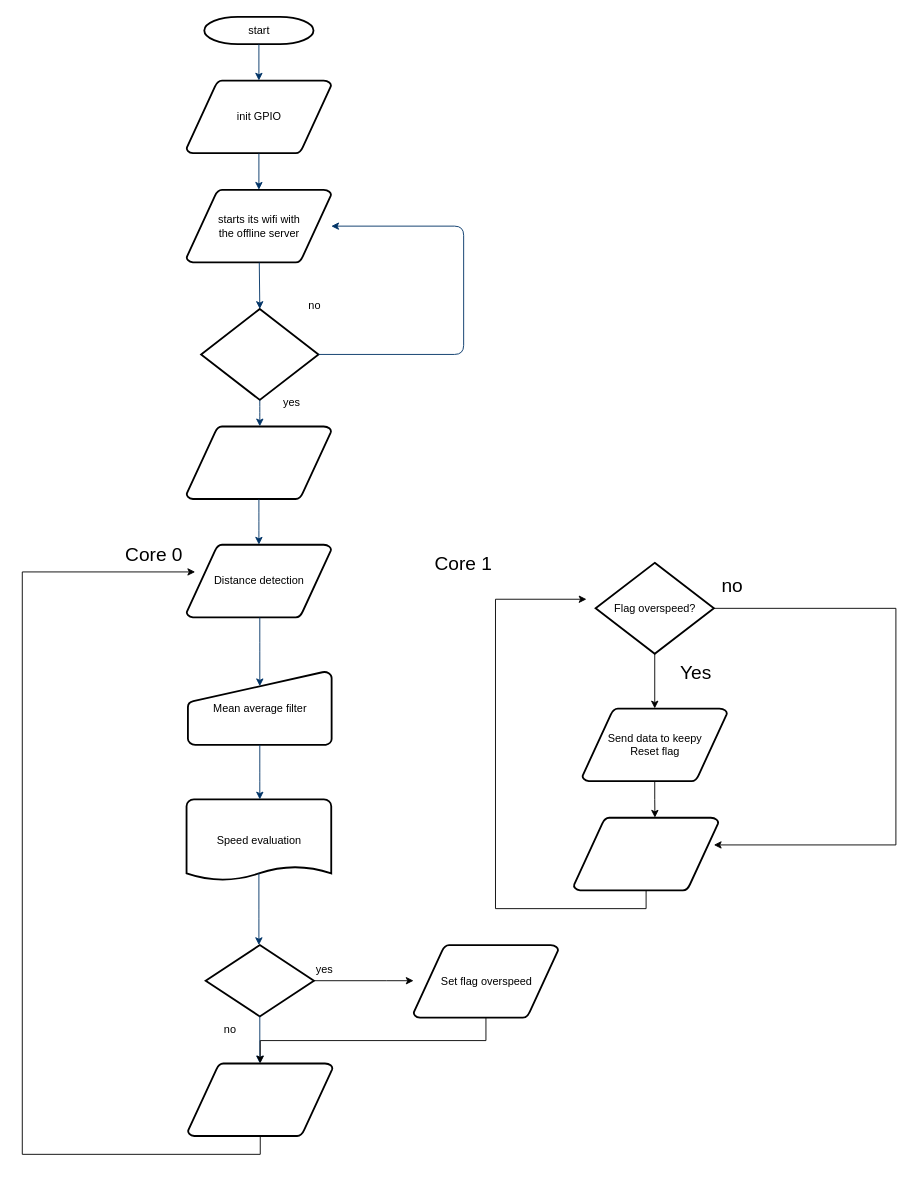
The diagram is 919 pixels wide and 1178 high, and some of its shapes have lost their labels. The centre of each missing label's shape, as x and y in pixels:
"activation command received?" belongs at point (259, 354).
"Connect to wifi available" belongs at point (258, 462).
"Overspeed detected?" belongs at point (259, 980).
"Wait 1 second" belongs at point (645, 853).
"Wait 30 milliseconds" belongs at point (260, 1099).
